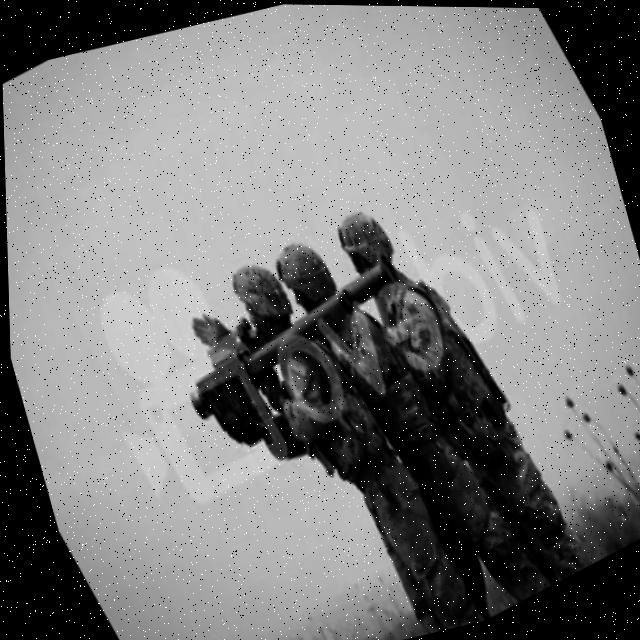rocket: (152, 243, 431, 424)
